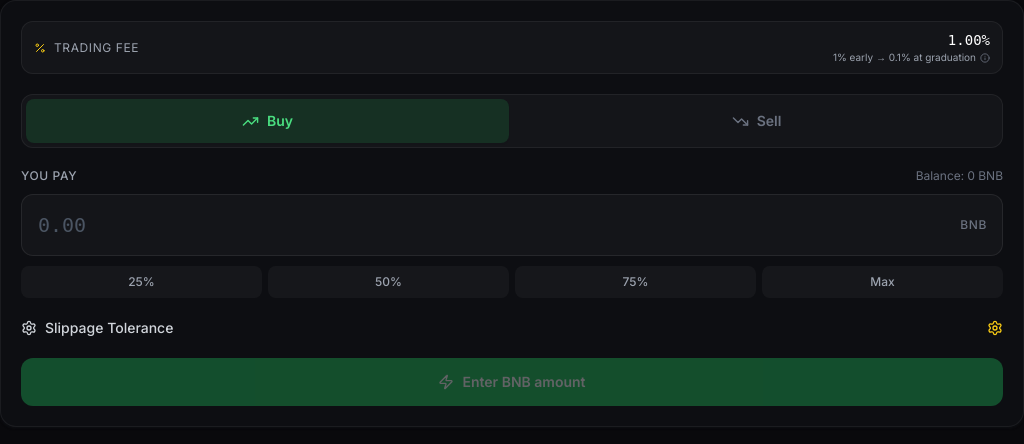
Test: TradingInterface › Component Rendering › should display correct user balance for sell mode
The width and height of the screenshot is (1024, 444).
Click the button "Sell".
click(756, 121)  # box [515,99,998,143]
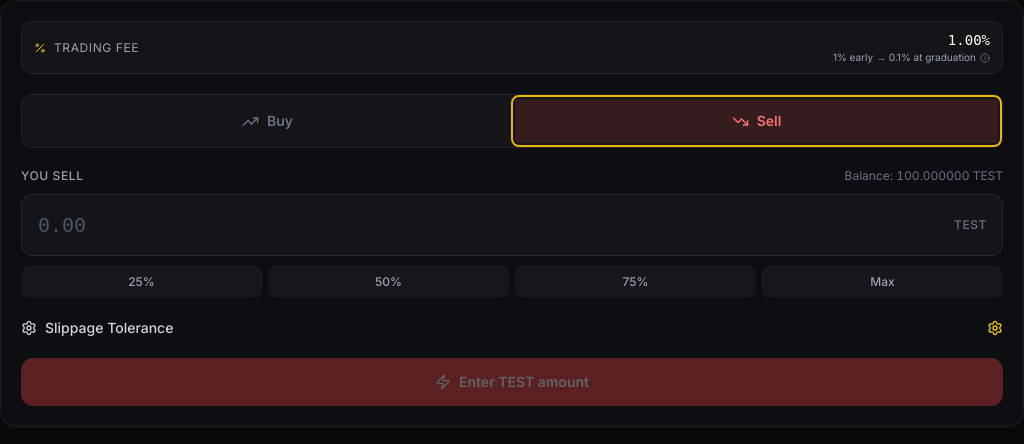
Check: the text "Balance: 100.000000 TEST" is shown, box [844,168,1003,184]
